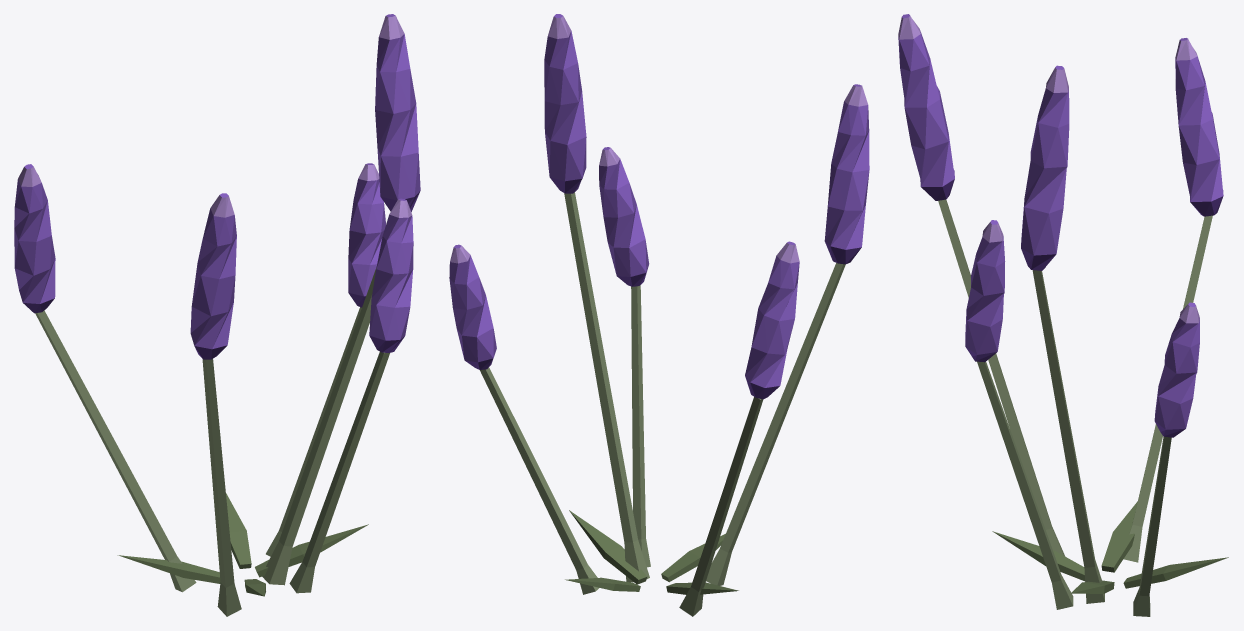
File: lavender.gltf
The picture shows the model from 3 angles, left to right: view 1: azimuth 30°, elevation 25°; view 2: azimuth 150°, elevation 25°; view 3: azimuth 270°, elevation 25°; orthographic projection. The views are drawn at different scales.
Visible parts, largest first — view 1: lavender; view 2: lavender; view 3: lavender.
Part boxes in pixels (<box>): lavender: <box>14,14,420,616</box>; lavender: <box>449,14,869,616</box>; lavender: <box>898,14,1228,616</box>.
Size of the model in its own units: 0.3729 by 0.5476 by 0.281.
